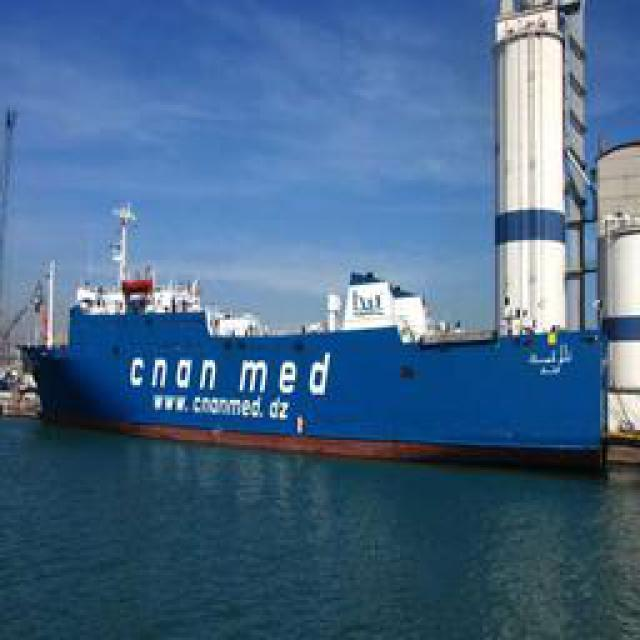Ship: (16, 197, 640, 455)
